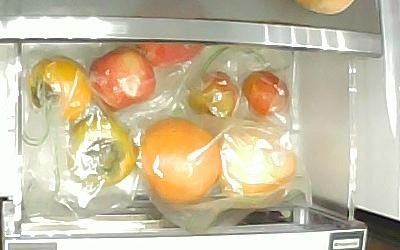apple_vinyl: (89, 46, 158, 114)
grapefruit_vinyl: (139, 118, 222, 203), (221, 121, 297, 198), (221, 128, 296, 200)
persimmon_vinyl: (68, 115, 136, 188), (28, 56, 92, 123)
prune_vinyl: (187, 70, 239, 118), (243, 71, 289, 118)
